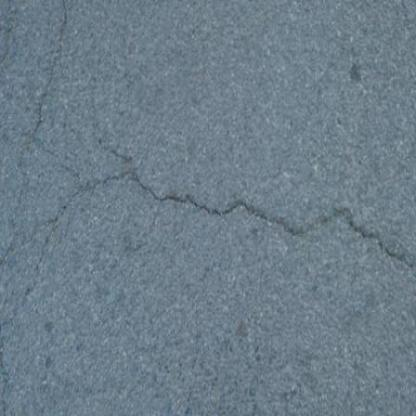Cracks: (0, 105, 416, 321), (1, 0, 89, 326)
